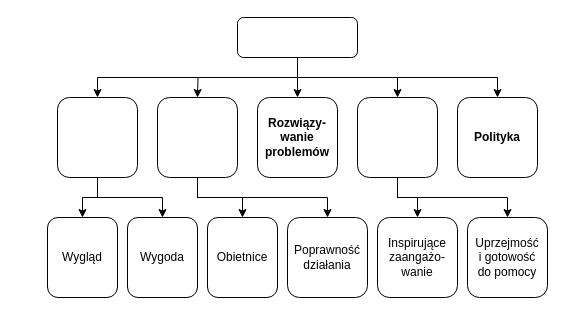
The diagram is 565 pixels wide and 315 high, and some of its shapes have lost their labels. The centre of each missing label's shape, as x and y in pixels:
Aspekty fizyczne: [97,137]
Interakcje między-ludzkie: [397,137]
JAKOŚĆ USŁUGI: [297,37]
Wiary-godność: [197,137]
